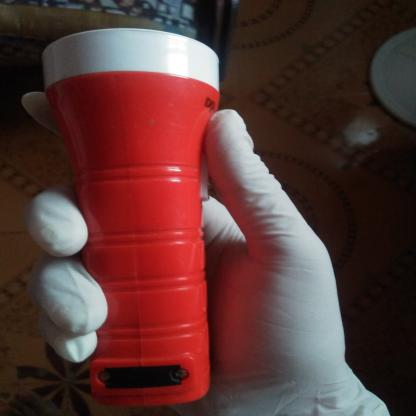gloved_hand: (22, 76, 397, 416)
